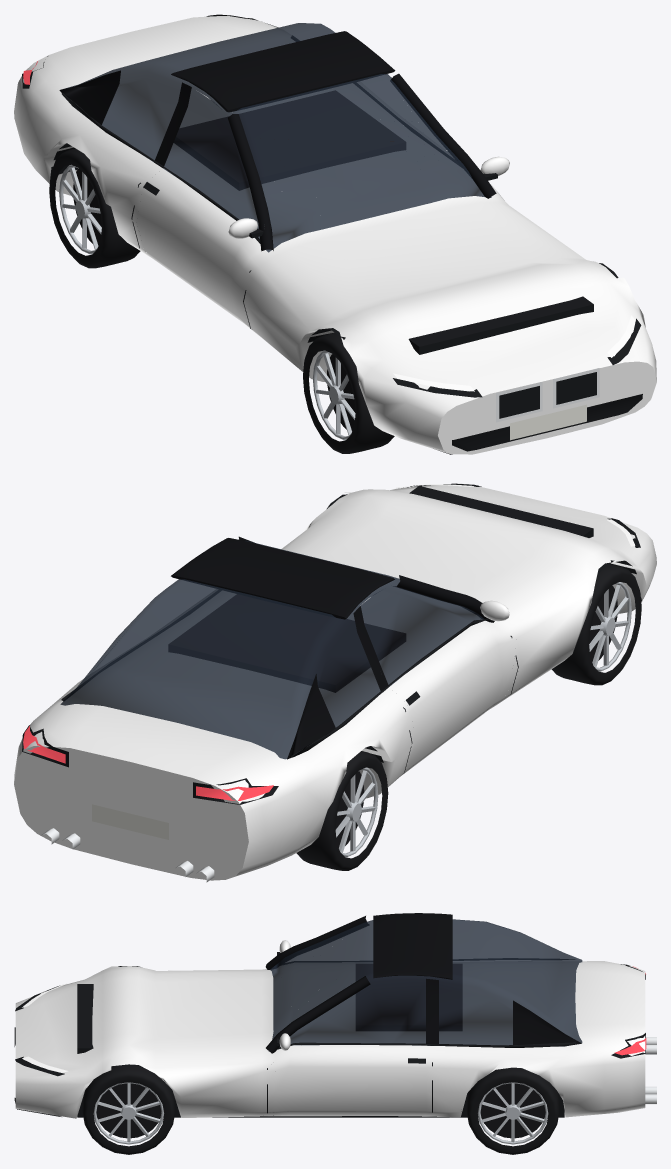
The model's file is bmw_m8_comp.lod.glb.
3 views of the same model, one above another, from view 1: azimuth 30°, elevation 25°; view 2: azimuth 150°, elevation 25°; view 3: azimuth 270°, elevation 25° (orthographic). The views are drawn at different scales.
Parts seen in each view (by area): view 1: body_paint, body_glass, body_trim, door_glass (×2), door_paint, body_roof, tire (×2), body_pillar, rim (×2), door_pillar, body_chrome, headlights; view 2: body_paint, body_glass, body_trim, door_paint, body_roof, door_glass, tire (×2), rim (×2), body_pillar, door_pillar, taillights, body_chrome; view 3: body_paint, body_glass, door_paint, body_trim, door_glass (×2), tire (×2), body_roof, rim_back (×2), body_pillar, rim (×2), door_pillar, body_chrome.
Part boxes in pixels (x1,y1,x2,y2): body_paint: (14,16,656,454); body_glass: (65,23,456,229); body_trim: (22,14,642,454); door_glass (×2): (163,74,491,252); door_paint: (137,170,270,331); body_roof: (171,31,395,112); tire (×2): (49,148,394,453); body_pillar: (59,70,496,251); rim (×2): (59,164,355,440); door_pillar: (161,86,265,250); body_chrome: (496,368,599,422); headlights: (393,315,635,391); body_paint: (14,483,656,880); body_glass: (60,540,391,759); body_trim: (22,483,641,839); door_paint: (391,621,521,776); body_roof: (171,538,394,619); door_glass: (358,575,485,686); tire (×2): (296,564,641,870); rim (×2): (335,582,631,857); body_pillar: (238,536,488,759); door_pillar: (359,576,494,688); taillights: (23,726,273,800); body_chrome: (41,828,214,882); body_paint: (15,961,645,1118); body_glass: (273,919,582,1046); door_paint: (262,1047,426,1116); body_trim: (14,958,645,1117); door_glass (×2): (268,923,425,1051); tire (×2): (82,1066,559,1154); body_roof: (373,913,452,979); rim_back (×2): (96,1083,545,1138); body_pillar: (265,916,581,1051); rim (×2): (93,1082,548,1144); door_pillar: (269,978,429,1053); body_chrome: (645,1037,656,1104).
Size of the model in its own units: 1.96 by 1.38 by 4.97.
